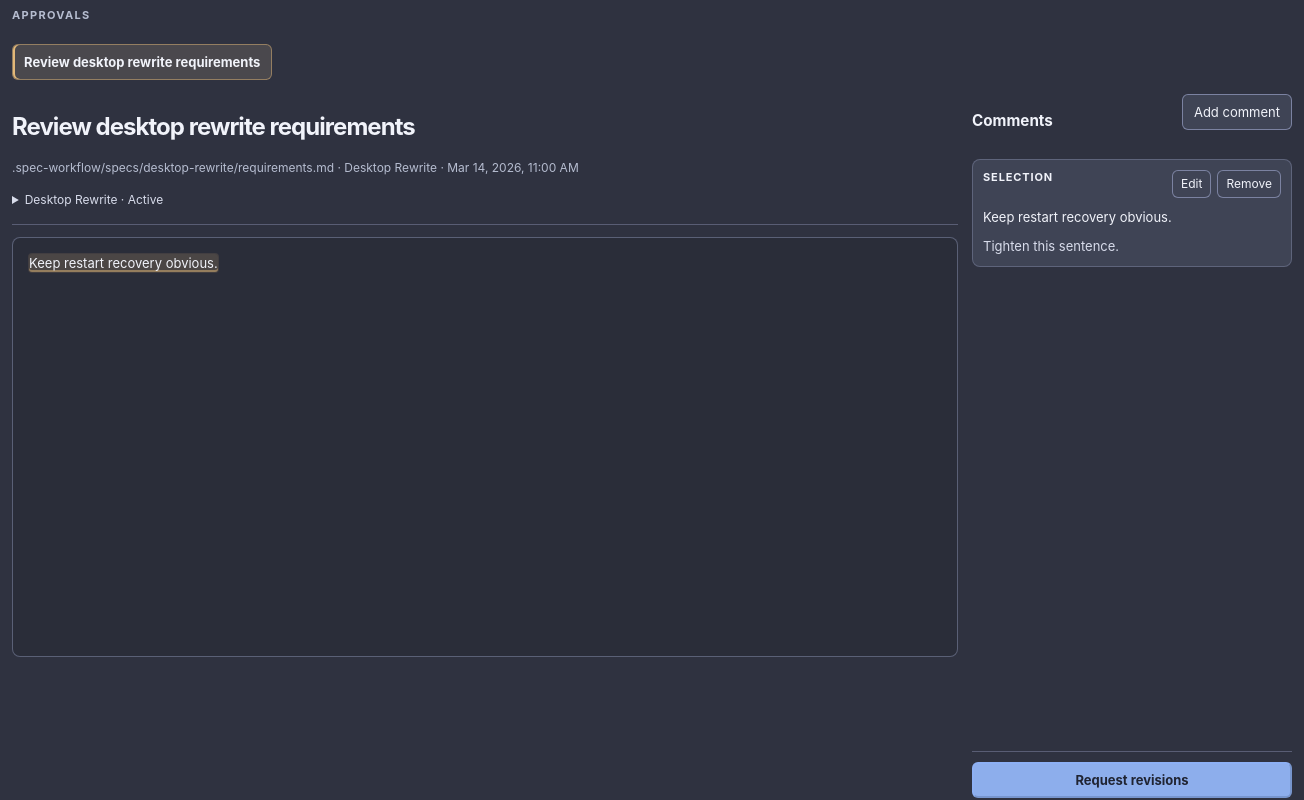
Scenario: ApprovalReviewPanel › shows selected text as plain preview and lets the reviewer remove the comment
Expected: the text with class "approval-comment-selection" reads "Keep restart recovery obvious.", [983,209,1172,225]
Click the button with aria-label "Delete comment" at (1249, 184), box [1218,170,1281,198]
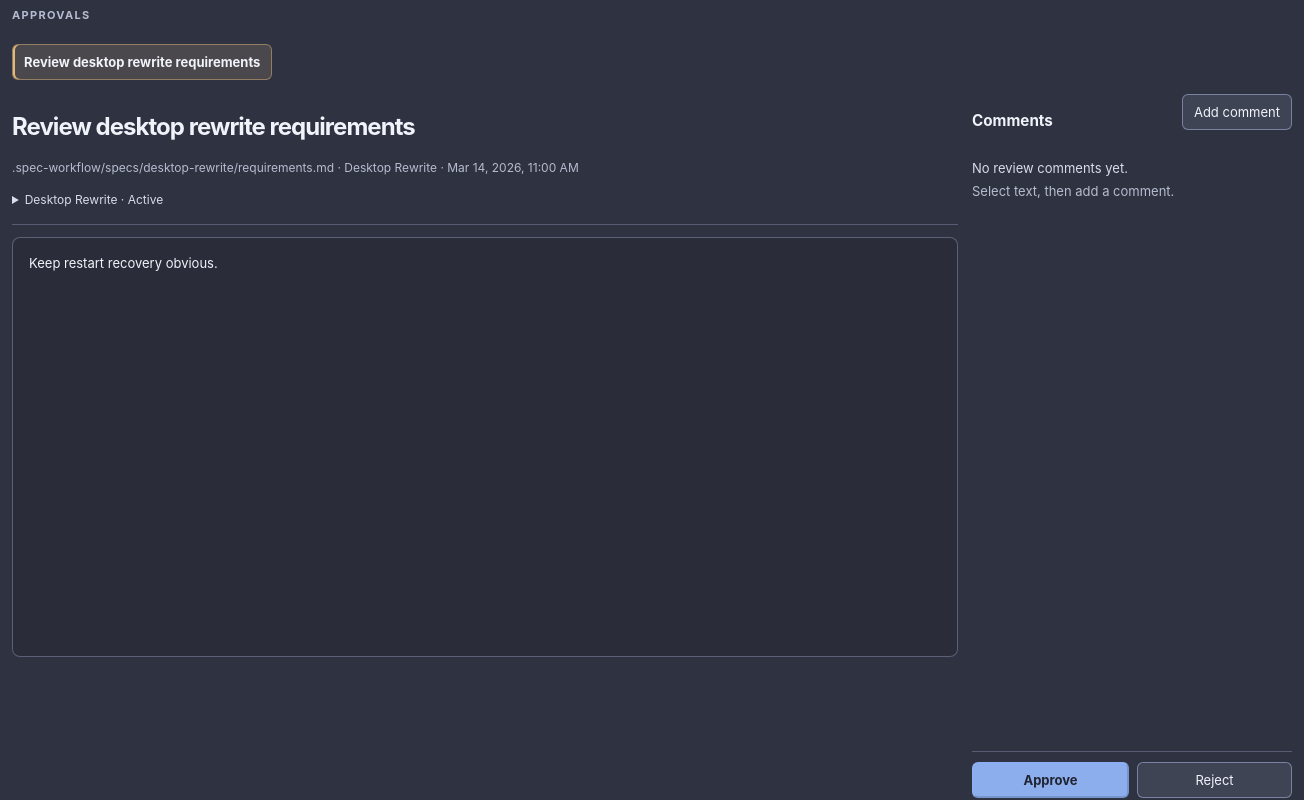
Expected: the button "Tighten this sentence." is gone
